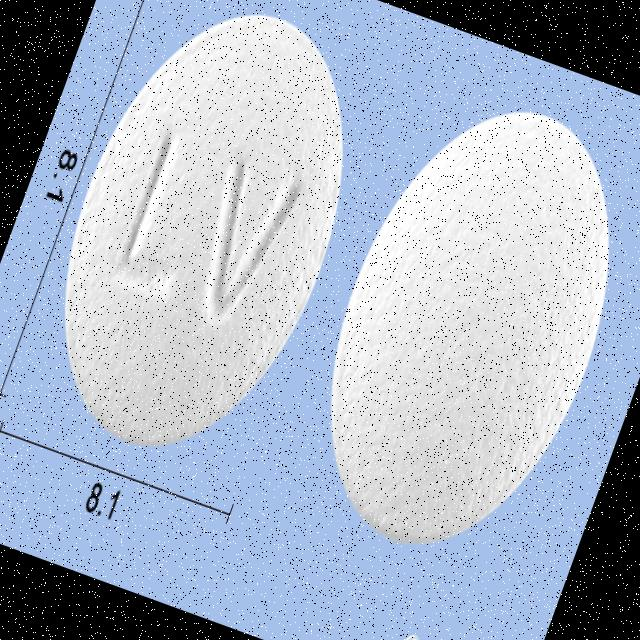Levobay: (6, 0, 402, 489), (276, 73, 640, 582)
